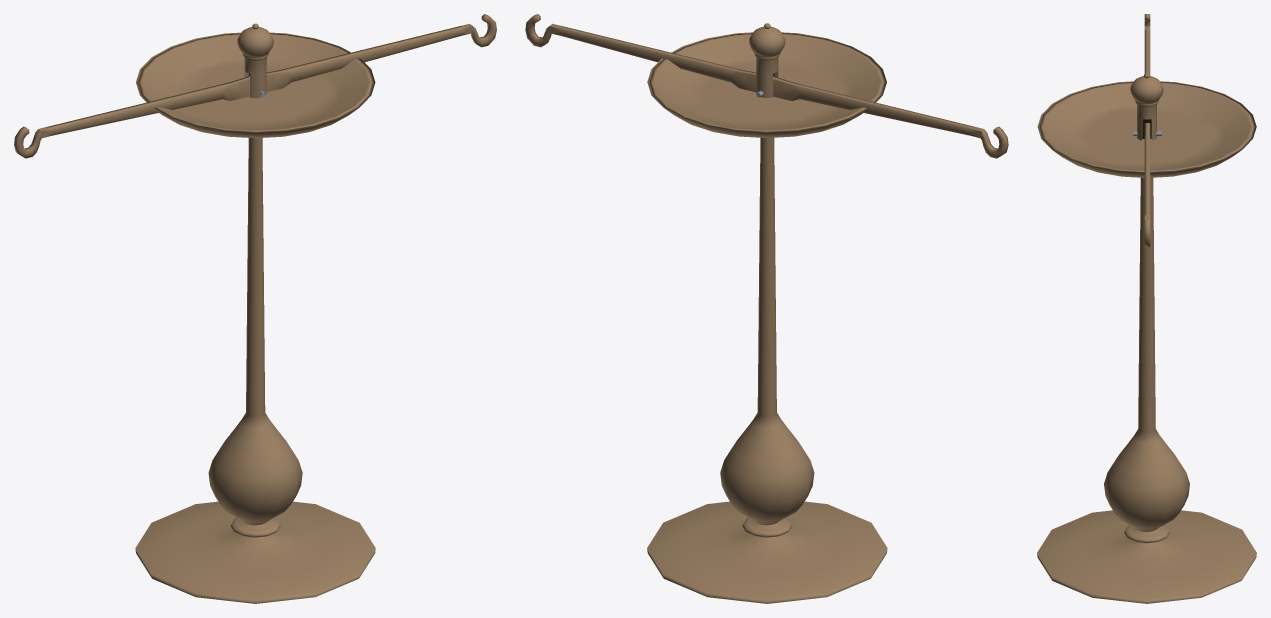
Rendered from balance.glb.
3 views of the same model, side by side, from view 1: azimuth 30°, elevation 25°; view 2: azimuth 150°, elevation 25°; view 3: azimuth 270°, elevation 25° (orthographic). The views are drawn at different scales.
Visible parts, largest first — view 1: stand, leftPan, rightPan, beam; view 2: stand, leftPan, rightPan, beam; view 3: stand, leftPan, rightPan, beam.
Part boxes in pixels (<box>): stand: <box>135,23,375,603</box>; leftPan: <box>136,32,375,138</box>; rightPan: <box>136,32,374,138</box>; beam: <box>14,14,496,158</box>; stand: <box>647,23,887,603</box>; leftPan: <box>647,32,886,137</box>; rightPan: <box>647,32,886,137</box>; beam: <box>525,14,1008,158</box>; stand: <box>1037,73,1256,603</box>; leftPan: <box>1037,81,1256,177</box>; rightPan: <box>1038,81,1255,174</box>; beam: <box>1133,14,1161,247</box>.
Bounding box in the file's own units: 0.74 × 0.7804 × 0.3211.
1 material, 1 textured.
